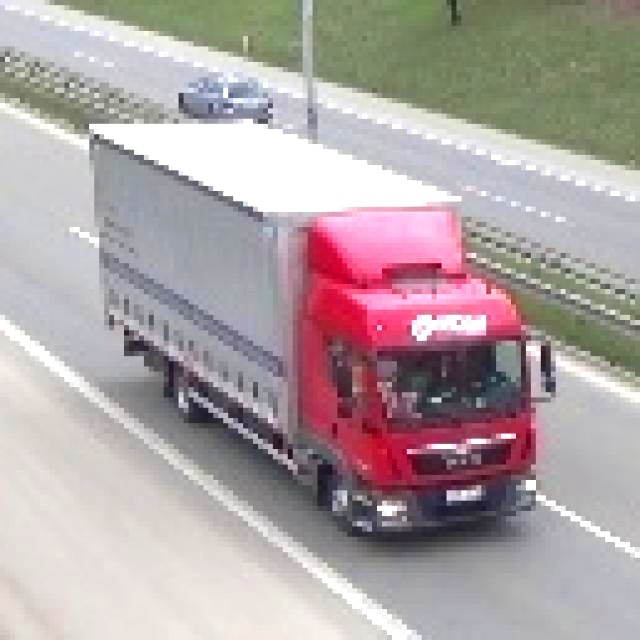car: (163, 41, 294, 135)
truck: (67, 106, 605, 574)
